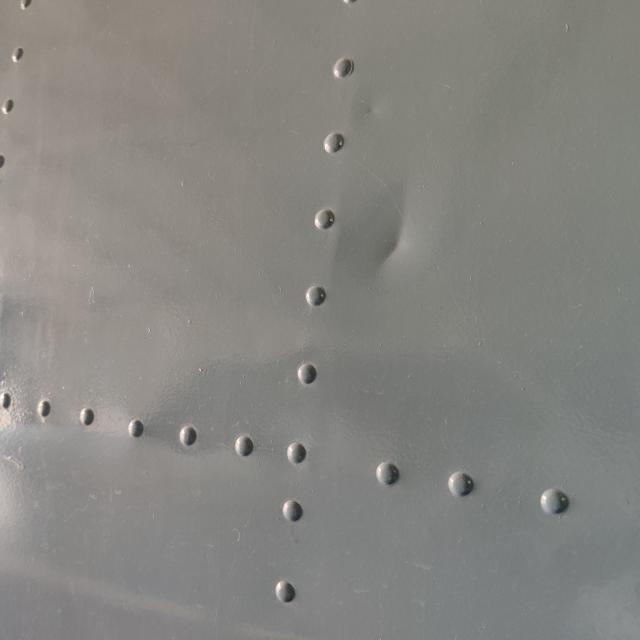dent: (352, 182, 437, 292)
